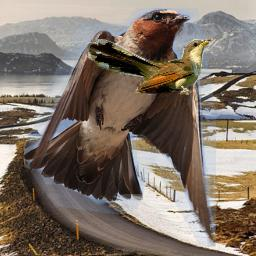Cuckoo: (87, 39, 213, 95)
Swallow: (24, 8, 216, 247)
